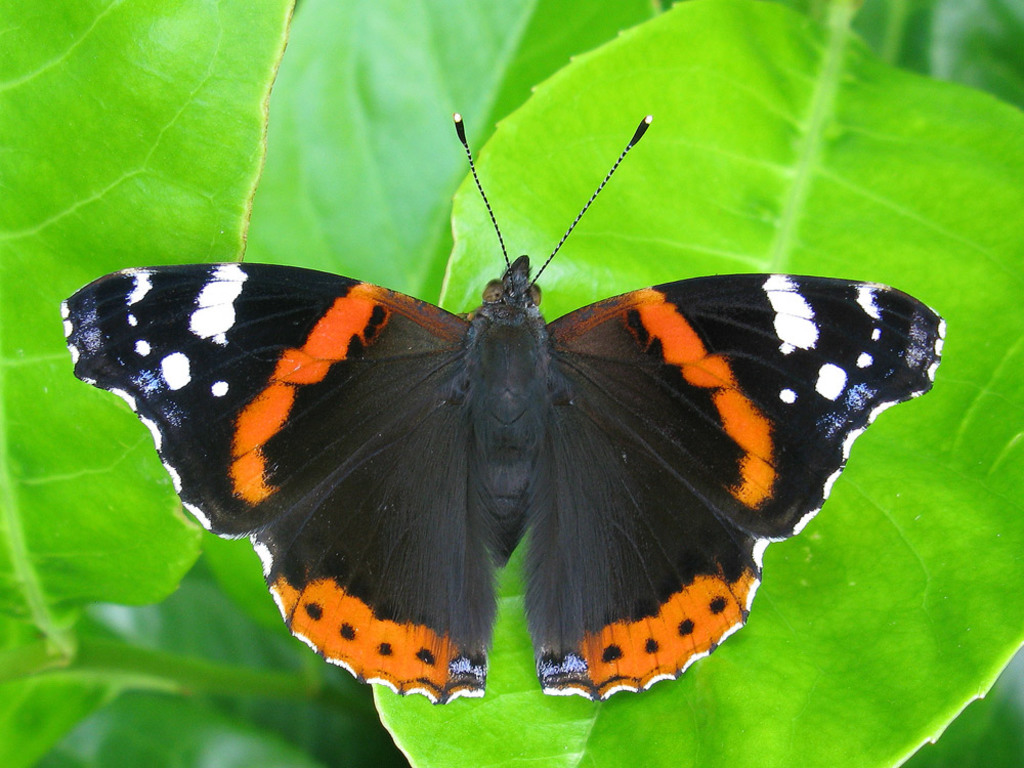Butterfly: (32, 224, 943, 712)
